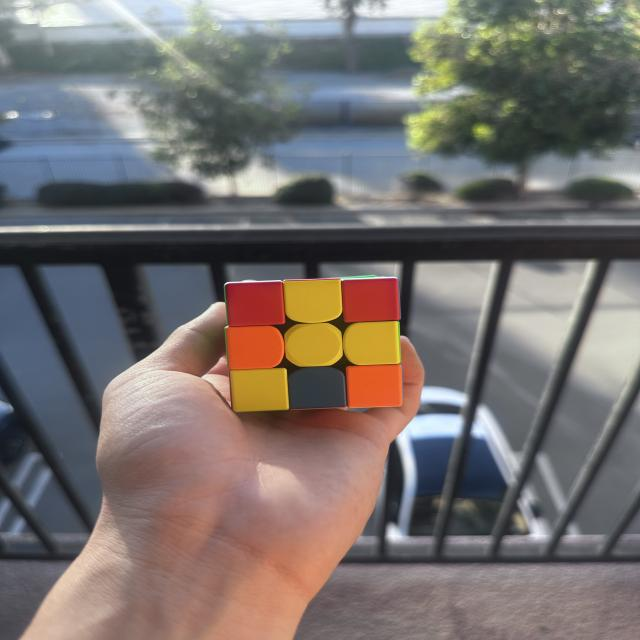sticker: (340, 274, 402, 325), (223, 279, 287, 328), (224, 324, 285, 372), (341, 319, 402, 367), (282, 278, 343, 325), (286, 366, 348, 412), (344, 363, 404, 410), (284, 321, 344, 368), (230, 367, 289, 414)
